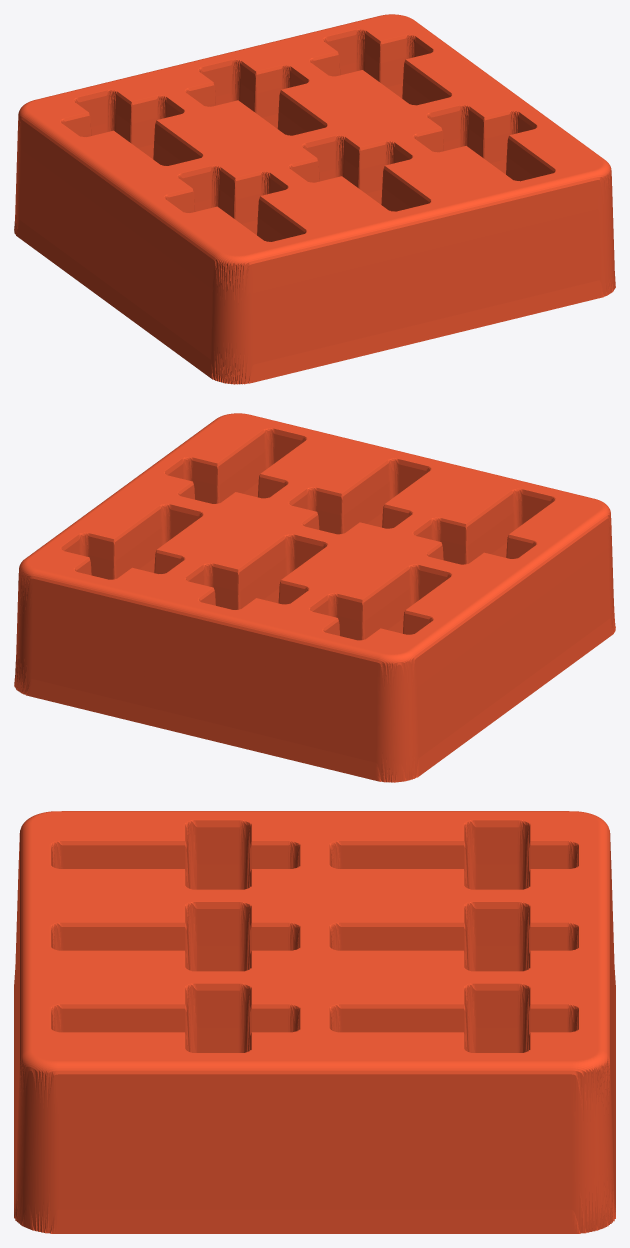
Rendered from mold.glb.
The picture shows the model from 3 angles, top to bottom: view 1: azimuth 30°, elevation 25°; view 2: azimuth 150°, elevation 25°; view 3: azimuth 270°, elevation 25°; orthographic projection. The views are drawn at different scales.
Visible parts, largest first — view 1: geometry_0; view 2: geometry_0; view 3: geometry_0.
Boxes of the visible parts, left/top/right/bottom form: geometry_0: left=14, top=14, right=615, bottom=384; geometry_0: left=14, top=413, right=615, bottom=782; geometry_0: left=14, top=811, right=615, bottom=1233.
Bounding box in the file's own units: 0.1292 × 0.0377 × 0.1246.
